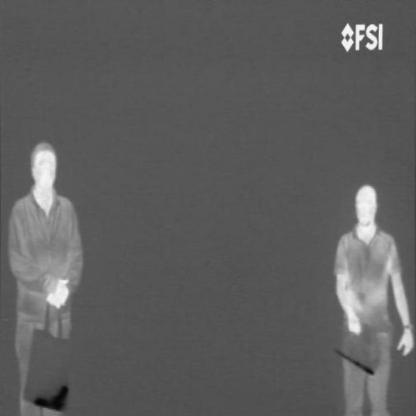weapon: (34, 379, 69, 411)
